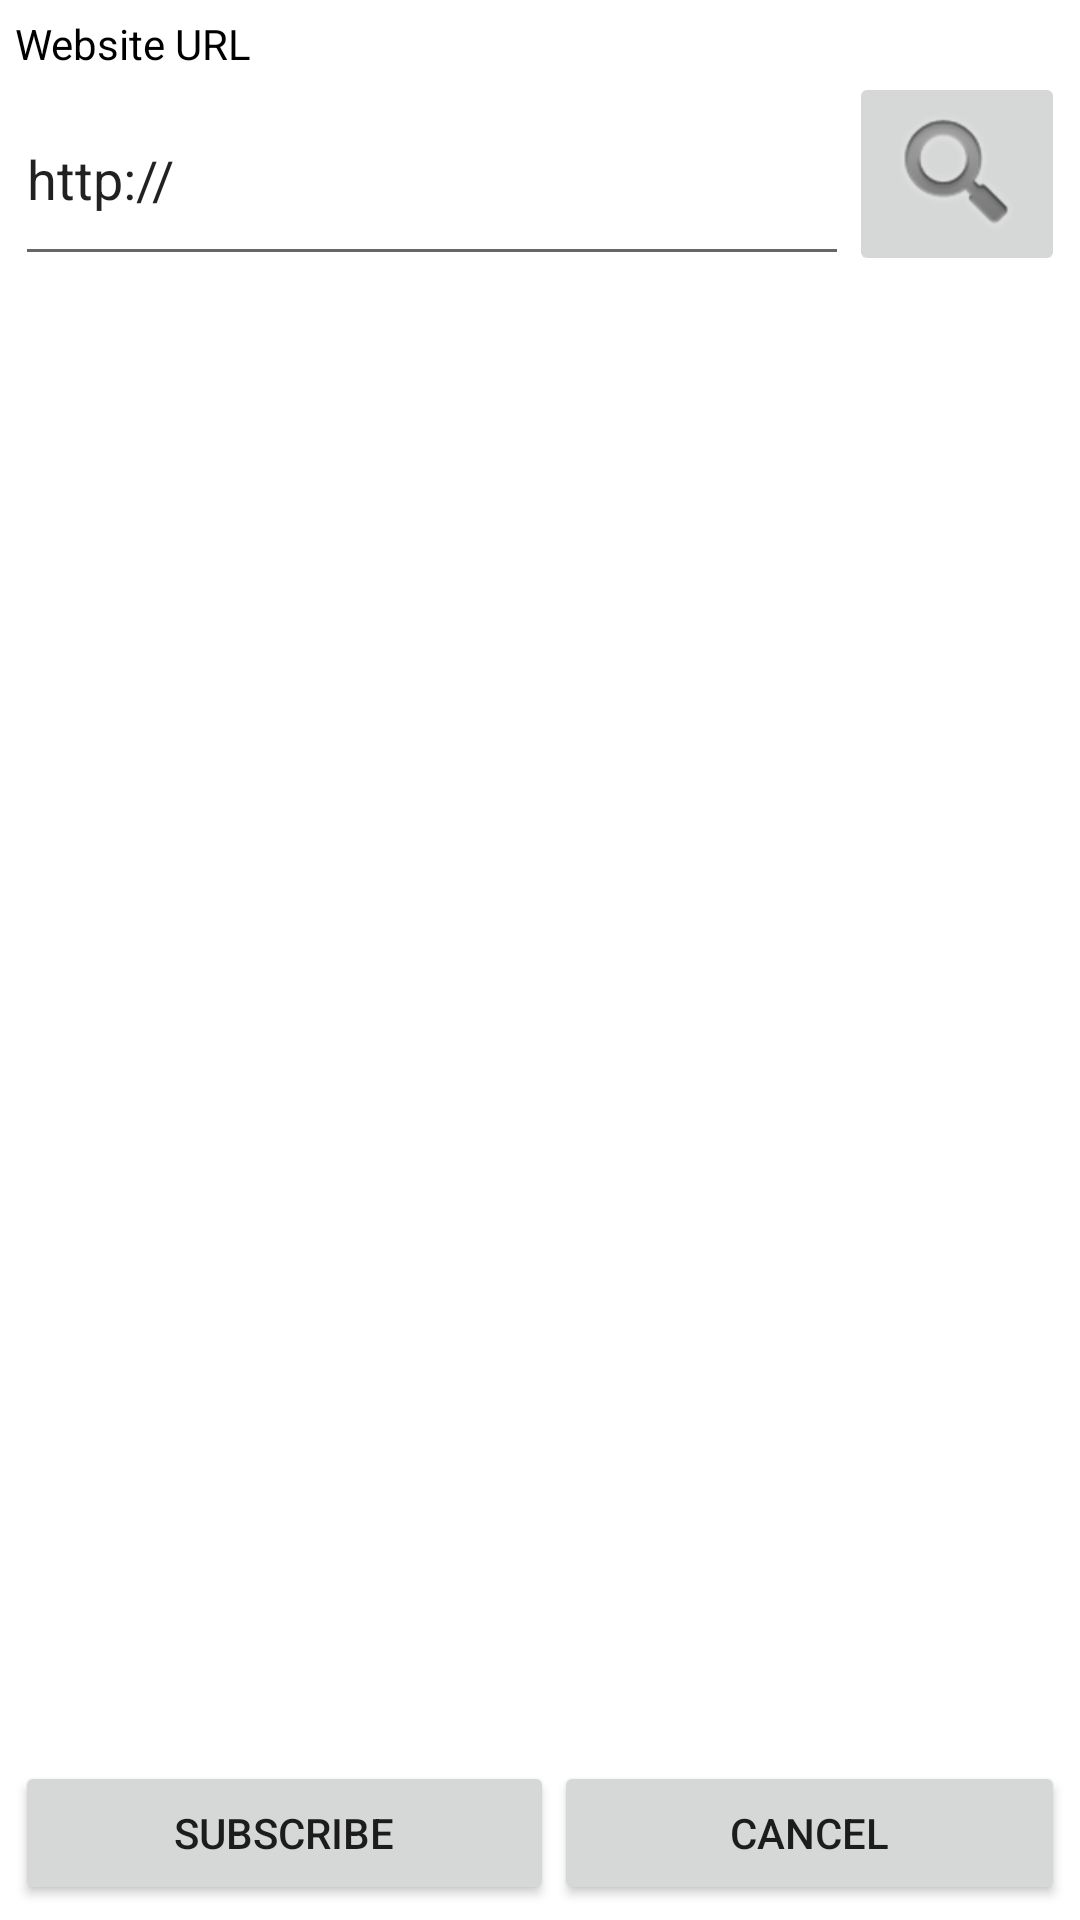

Screen size 1080*1920. Icon name, then its center in pixels as (x=x, y=y):
search category: (x=957, y=174)
